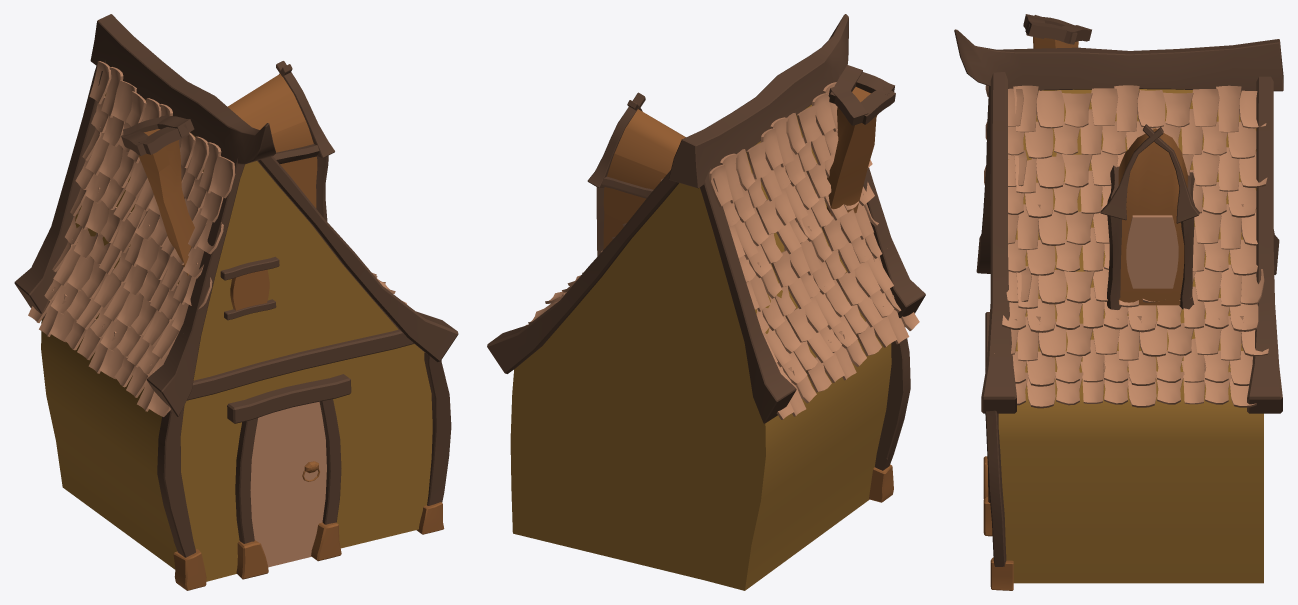
Rendered from CartoonHouse.fbx.
3 views of the same model, side by side, from view 1: azimuth 30°, elevation 25°; view 2: azimuth 150°, elevation 25°; view 3: azimuth 270°, elevation 25° (orthographic). The views are drawn at different scales.
Parts seen in each view (by area): view 1: house:MAISONbase_maison, house:MAISONportepCube10, house:toitMAISONpCube17, house:pCube13toitMAISON, house:toitMAISONpCube15, house:MAISONpCube31, house:toitMAISONpCube45, house:MAISONpCube12, house:toitMAISONpCube40, house:MAISONpCube20, house:MAISONportepCube9, house:MAISONpCube21 (+16 smaller); view 2: house:MAISONbase_maison, house:toitMAISONpCube17, house:toitMAISONpCube45, house:MAISONpCube31, house:toitMAISONpCube46, house:toitMAISONpCube40, house:MAISONpCube20, house:toitMAISONpCube15, house:toitMAISONpCube35, house:MAISONportegroup9pCube43, house:MAISONpCube11, house:MAISONportegroup9pCube41 (+10 smaller); view 3: house:MAISONbase_maison, house:toitMAISONpCube17, house:pCube13toitMAISON, house:toitMAISONpCube46, house:MAISONpCube31, house:MAISONportepCube36, house:MAISONpCube21, house:toitMAISONpCube15, house:toitMAISONpCube38, house:toitMAISONpCube34, house:toitMAISONpCube35, house:MAISONhangartoittuile_C_01tuiles1 (+90 smaller).
Boxes of the visible parts, x1,y1,x2,y2 form: house:MAISONbase_maison: (41,93,432,581); house:MAISONportepCube10: (250,401,326,567); house:toitMAISONpCube17: (90,14,275,164); house:pCube13toitMAISON: (257,156,458,362); house:toitMAISONpCube15: (147,157,244,416); house:MAISONpCube31: (228,74,317,208); house:toitMAISONpCube45: (14,60,105,318); house:MAISONpCube12: (187,329,414,400); house:toitMAISONpCube40: (138,129,194,281); house:MAISONpCube20: (157,405,195,557); house:MAISONportepCube9: (227,374,351,423); house:MAISONpCube21: (424,352,451,505); house:MAISONbase_maison: (510,104,891,590); house:toitMAISONpCube17: (668,14,848,188); house:toitMAISONpCube45: (700,167,796,423); house:MAISONpCube31: (603,109,685,249); house:toitMAISONpCube46: (487,170,678,373); house:toitMAISONpCube40: (826,87,877,215); house:MAISONpCube20: (875,326,910,470); house:toitMAISONpCube15: (838,73,925,318); house:toitMAISONpCube35: (587,92,645,187); house:MAISONportegroup9pCube43: (828,86,868,125); house:MAISONpCube11: (869,464,893,502); house:MAISONportegroup9pCube41: (860,85,895,124); house:MAISONbase_maison: (998,89,1263,583); house:toitMAISONpCube17: (954,29,1283,91); house:pCube13toitMAISON: (981,72,1016,413); house:toitMAISONpCube46: (1247,76,1282,413); house:MAISONpCube31: (1118,128,1187,305); house:MAISONportepCube36: (1126,215,1178,288); house:MAISONpCube21: (985,410,1006,566); house:toitMAISONpCube15: (976,86,990,273); house:toitMAISONpCube38: (1107,215,1121,309); house:toitMAISONpCube34: (1100,127,1163,220); house:toitMAISONpCube35: (1143,124,1199,223); house:MAISONhangartoittuile_C_01tuiles1: (1036,90,1064,128).
Size of the model in its own units: 26.37 by 39.38 by 25.23.
